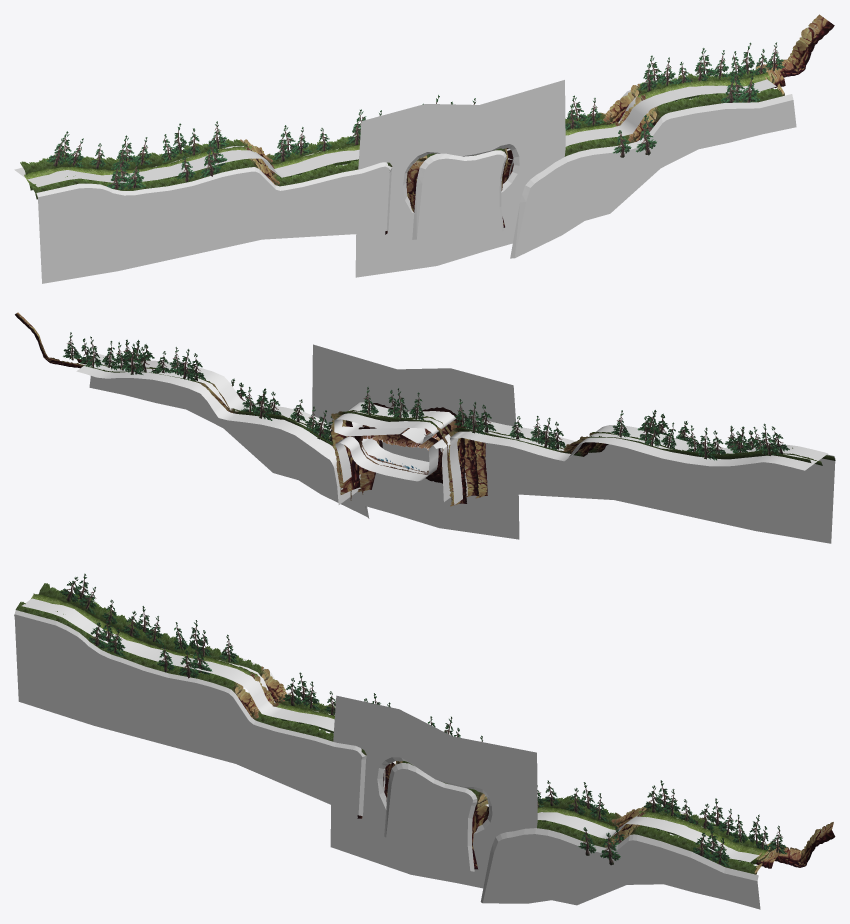
Rendered from Lvl 9 Pt 1.FBX.
3 views of the same model, one above another, from view 1: azimuth 30°, elevation 25°; view 2: azimuth 150°, elevation 25°; view 3: azimuth 330°, elevation 25° (orthographic).
Visible parts, largest first — view 1: Black LVL pt 1_1, Black LVL pt 1 Cave, Black LVL pt 1_3, Black LVL pt 1_2, Lvl 9 Col Pt 1, Land Pt 1_3 BG, Rock Pt 1_1 BG, Rock Pt 1_1 FG, LVL 9 Trees pt 1_1, LVL 9 Trees pt 1_4, Land Pt 1_3 FG, Rock Pt 1_1 (+6 smaller); view 2: Black LVL pt 1_1, Black LVL pt 1 Cave, Lvl 9 Col Pt 1, Black LVL pt 1_3, LVL 9 Trees pt 1_2, LVL 9 Trees pt 1_4, LVL 9 Trees pt 1_1, Rock Pt 1_1 BG, Land Pt 1_2 BG, LVL 9 Trees pt 1_3, Rock Pt 1_1, Land Pt 1_3 BG (+5 smaller); view 3: Black LVL pt 1_1, Black LVL pt 1 Cave, Black LVL pt 1_3, Black LVL pt 1_2, Lvl 9 Col Pt 1, Rock Pt 1_1 BG, Rock Pt 1_1 FG, Land Pt 1_3 BG, LVL 9 Trees pt 1_1, LVL 9 Trees pt 1_4, Land Pt 1_3 FG, Land Pt 1_3 (+6 smaller).
Part boxes in pixels (<box>): Black LVL pt 1_1: <box>36,162,392,283</box>; Black LVL pt 1 Cave: <box>355,80,565,277</box>; Black LVL pt 1_3: <box>510,94,796,258</box>; Black LVL pt 1_2: <box>412,150,506,239</box>; Lvl 9 Col Pt 1: <box>14,69,776,187</box>; Land Pt 1_3 BG: <box>565,14,834,129</box>; Rock Pt 1_1 BG: <box>20,134,360,174</box>; Rock Pt 1_1 FG: <box>30,158,392,234</box>; LVL 9 Trees pt 1_1: <box>46,121,228,169</box>; LVL 9 Trees pt 1_4: <box>639,42,784,91</box>; Land Pt 1_3 FG: <box>564,83,784,156</box>; Rock Pt 1_1: <box>24,144,359,190</box>; Black LVL pt 1_1: <box>517,444,835,543</box>; Black LVL pt 1 Cave: <box>312,344,519,539</box>; Lvl 9 Col Pt 1: <box>76,354,827,504</box>; Black LVL pt 1_3: <box>89,376,369,518</box>; LVL 9 Trees pt 1_2: <box>360,387,565,450</box>; LVL 9 Trees pt 1_4: <box>63,332,205,381</box>; LVL 9 Trees pt 1_1: <box>611,410,789,460</box>; Rock Pt 1_1 BG: <box>448,428,811,506</box>; Land Pt 1_2 BG: <box>331,411,452,501</box>; LVL 9 Trees pt 1_3: <box>241,387,332,442</box>; Rock Pt 1_1: <box>459,426,822,497</box>; Land Pt 1_3 BG: <box>15,312,341,490</box>; Black LVL pt 1_1: <box>14,610,366,815</box>; Black LVL pt 1 Cave: <box>330,695,537,888</box>; Black LVL pt 1_3: <box>480,828,760,909</box>; Black LVL pt 1_2: <box>384,763,477,871</box>; Lvl 9 Col Pt 1: <box>22,593,767,862</box>; Rock Pt 1_1 BG: <box>39,583,335,715</box>; Rock Pt 1_1 FG: <box>14,601,366,818</box>; Land Pt 1_3 BG: <box>538,795,835,867</box>; LVL 9 Trees pt 1_1: <box>60,573,238,662</box>; LVL 9 Trees pt 1_4: <box>644,780,786,854</box>; Land Pt 1_3 FG: <box>537,820,762,874</box>; Land Pt 1_3: <box>537,806,778,868</box>.
Size of the model in its own units: 21304 by 1386 by 5396.
